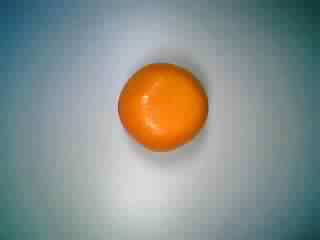orange: (113, 56, 211, 154)
